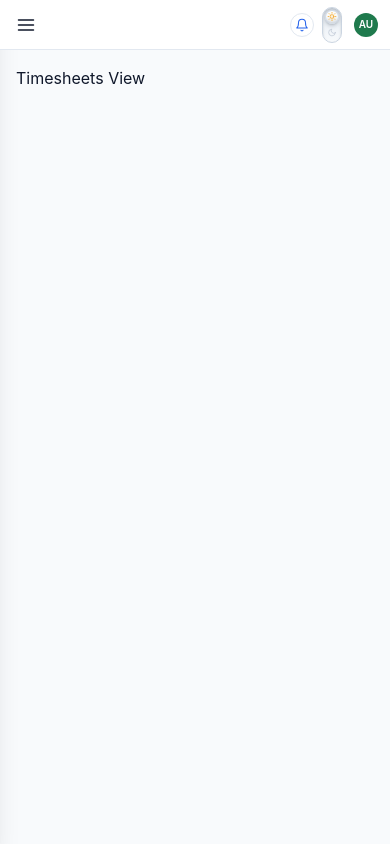
Scenario: AppShell › renders page names alongside icons in mobile sidebar drawer even when collapsed
Check: the text "Dashboard" is not shown
Check: the text "Project Management" is not shown
Click the button named "open navigation drawer" at (26, 24), box left=12, top=10, right=40, bottom=38
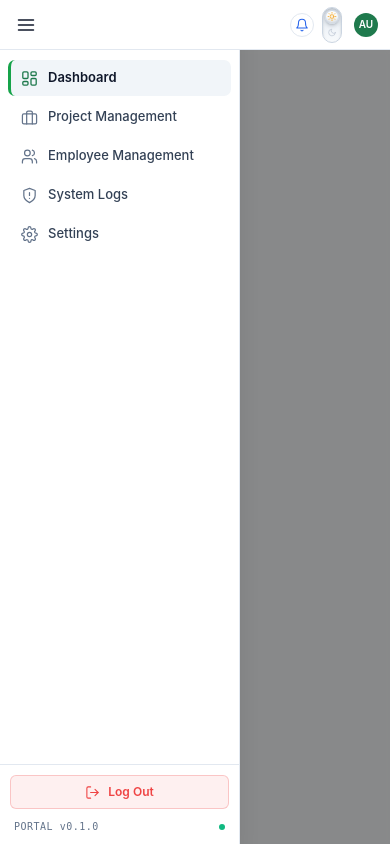
Check: the text "Dashboard" is shown, box left=48, top=69, right=117, bottom=85
Check: the text "Project Management" is shown, box left=48, top=108, right=177, bottom=124
Check: the text "Employee Management" is shown, box left=48, top=147, right=194, bottom=163
